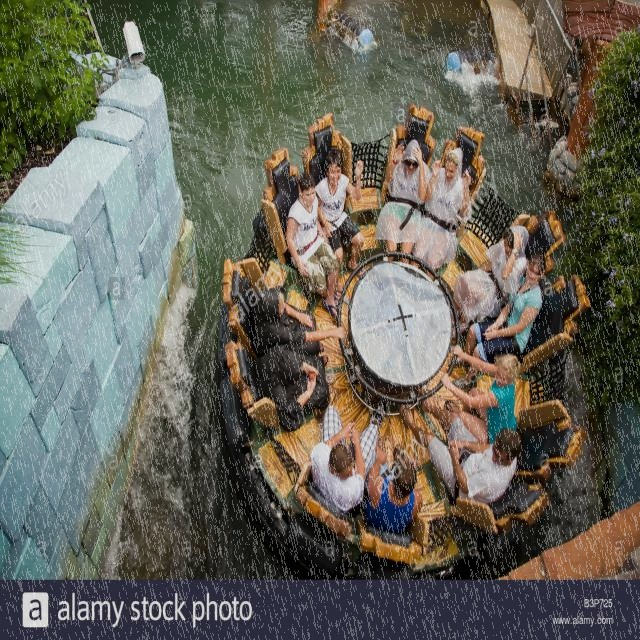pessoa: (398, 385, 522, 510), (448, 252, 546, 394), (444, 222, 532, 342), (307, 396, 389, 516), (312, 145, 369, 301), (284, 170, 342, 320), (438, 342, 522, 444), (410, 146, 472, 282), (244, 280, 348, 360), (252, 342, 334, 435), (375, 138, 432, 264), (364, 436, 424, 536)
